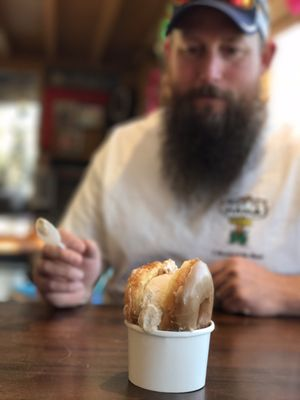curry: (0, 300, 300, 400)
